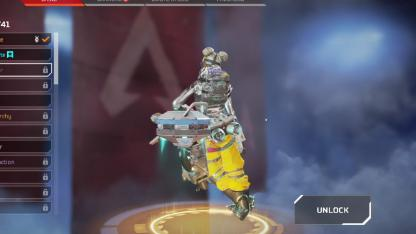Target: (200, 44, 244, 180)
